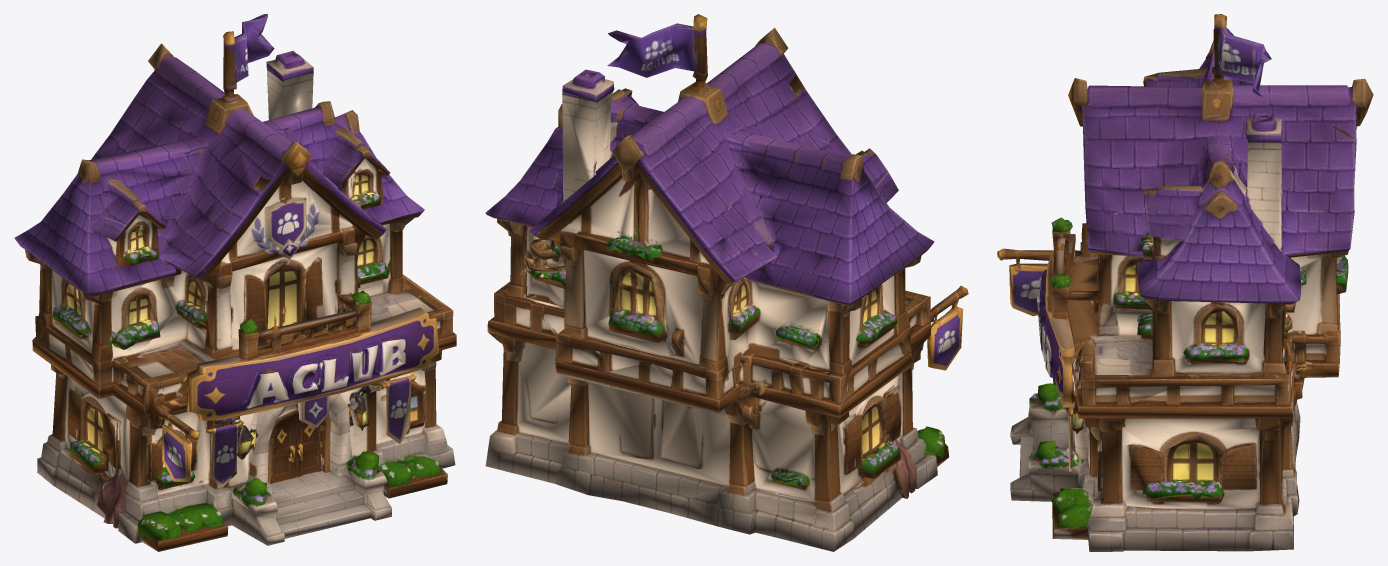
The model's file is project-aclub.glb.
The picture shows the model from 3 angles, left to right: view 1: azimuth 30°, elevation 25°; view 2: azimuth 150°, elevation 25°; view 3: azimuth 270°, elevation 25°; orthographic projection. The views are drawn at different scales.
Visible parts, largest first — view 1: Mesh1.0; view 2: Mesh1.0; view 3: Mesh1.0.
Part boxes in pixels (x1,y1,x2,y2): Mesh1.0: [14, 14, 456, 551]; Mesh1.0: [485, 14, 968, 551]; Mesh1.0: [997, 14, 1373, 551].
Size of the model in its own units: 1.6 by 1.9 by 1.43.
Materials: 1 (1 with a texture image).
